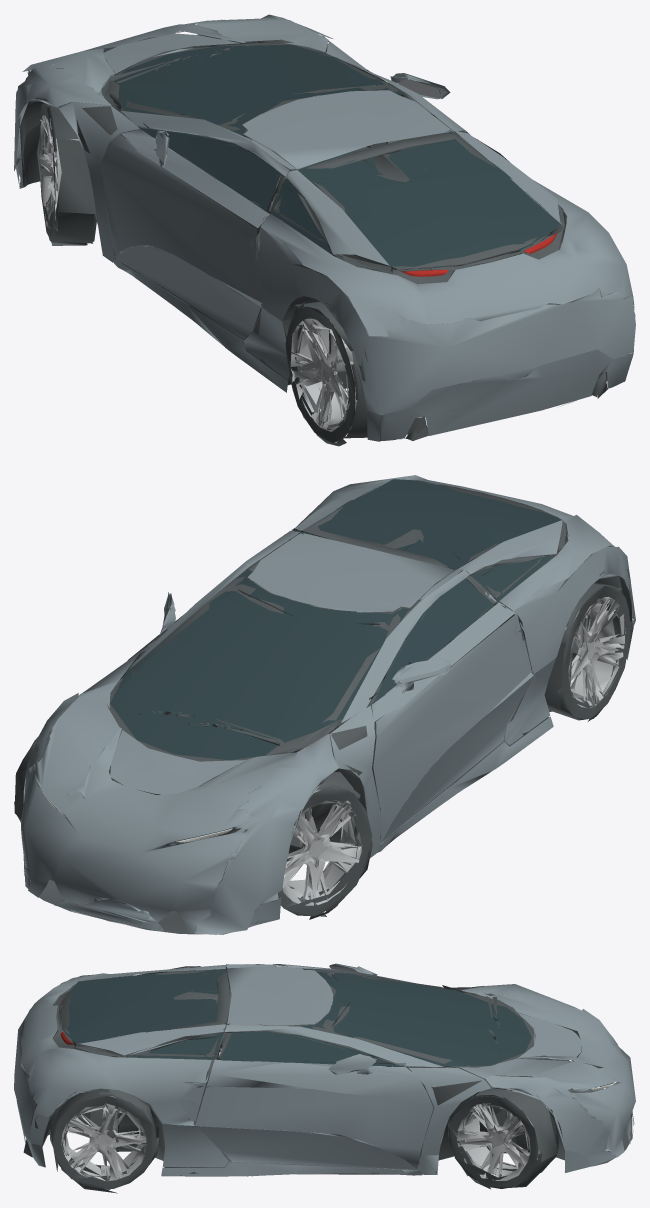
Rendered from crossover-far.glb.
The picture shows the model from 3 angles, top to bottom: view 1: azimuth 30°, elevation 25°; view 2: azimuth 150°, elevation 25°; view 3: azimuth 270°, elevation 25°; orthographic projection. The views are drawn at different scales.
Visible parts, largest first — view 1: body, WheelRearL, WheelFrontL; view 2: body, WheelFrontL, WheelRearL; view 3: body, WheelFrontR, WheelRearR.
Part boxes in pixels (bbox=[...]): body: bbox=[14, 14, 635, 441]; WheelRearL: bbox=[285, 302, 368, 446]; WheelFrontL: bbox=[37, 103, 97, 245]; body: bbox=[21, 475, 635, 934]; WheelFrontL: bbox=[274, 772, 372, 919]; WheelRearL: bbox=[544, 582, 630, 721]; body: bbox=[14, 963, 635, 1176]; WheelFrontR: bbox=[447, 1086, 558, 1189]; WheelRearR: bbox=[50, 1089, 159, 1193].
Bounding box in the file's own units: 1.81 × 1.12 × 4.2.
